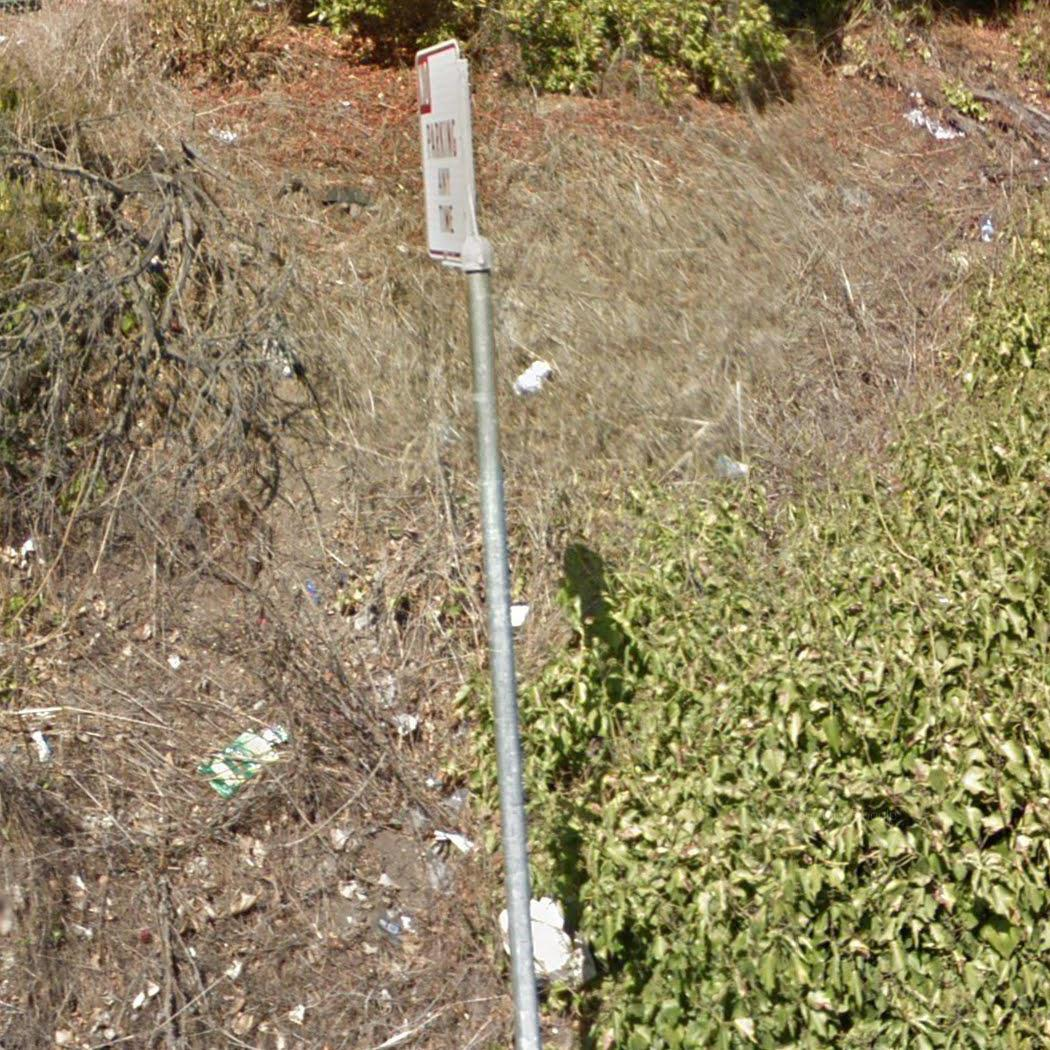No Parking: (407, 30, 482, 268)
